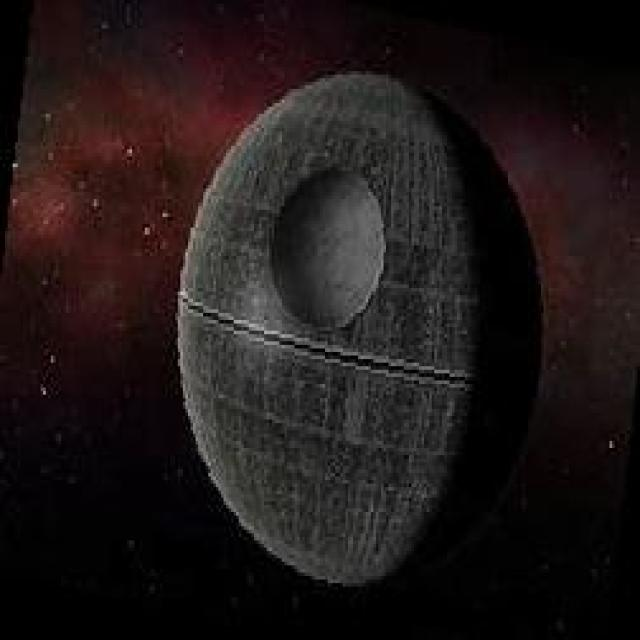Death Star: (177, 75, 546, 596)
